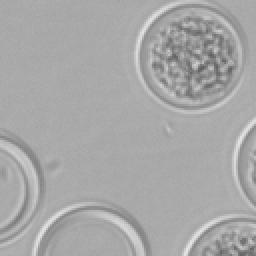picoshell: (134, 0, 242, 112), (30, 202, 148, 254), (0, 130, 42, 246), (182, 214, 254, 254), (232, 118, 254, 208)
